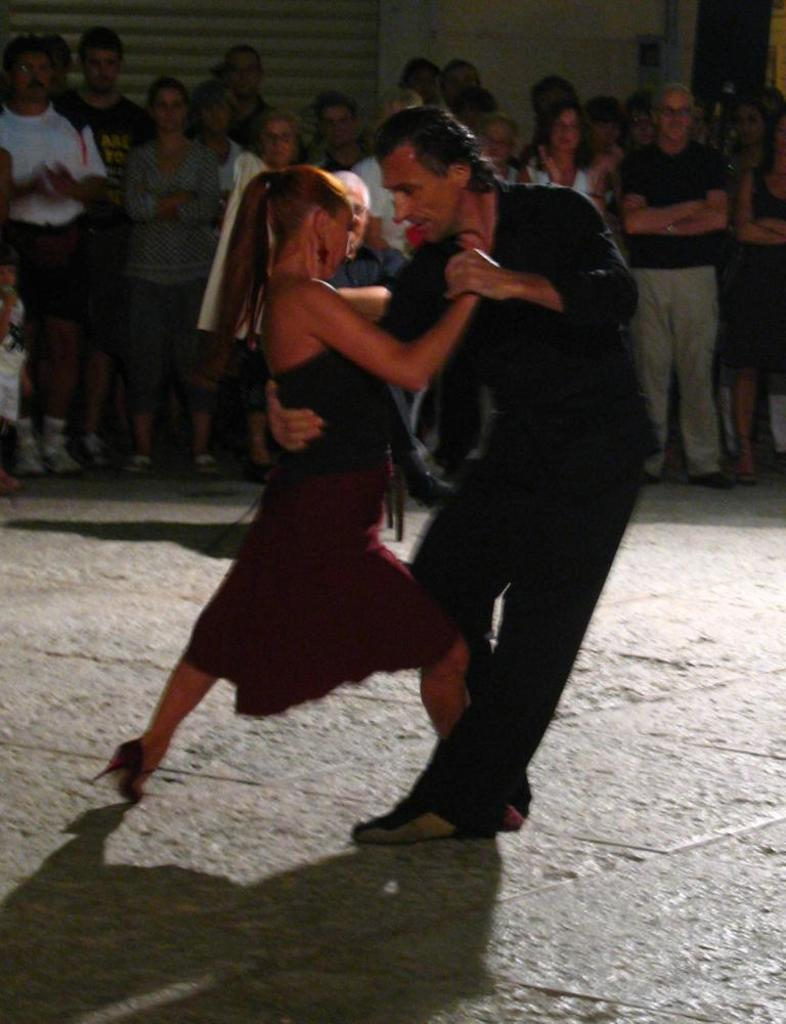person: (437, 54, 482, 112)
